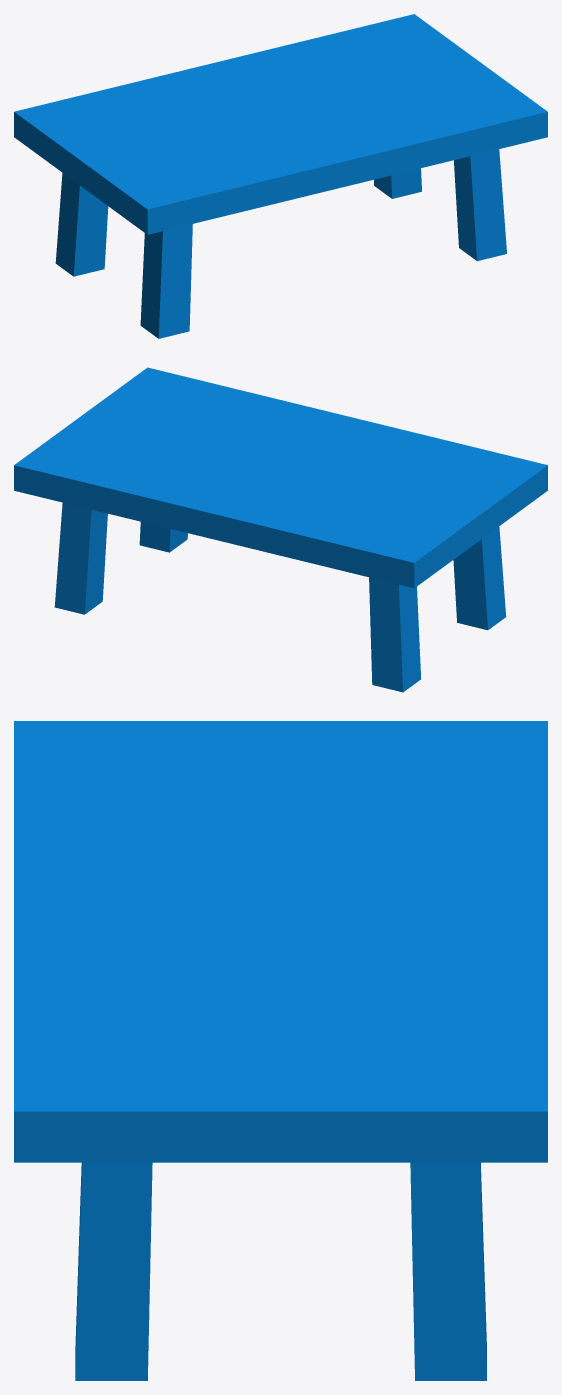
File: Table.fbx
3 views of the same model, one above another, from view 1: azimuth 30°, elevation 25°; view 2: azimuth 150°, elevation 25°; view 3: azimuth 270°, elevation 25° (orthographic). The views are drawn at different scales.
Visible parts, largest first — view 1: Table; view 2: Table; view 3: Table.
Boxes of the visible parts, box(x1,y1,x2,y2) form: Table: box(14, 14, 547, 338); Table: box(14, 367, 547, 692); Table: box(14, 721, 547, 1380).
Size of the model in its own units: 505 by 177 by 292.
